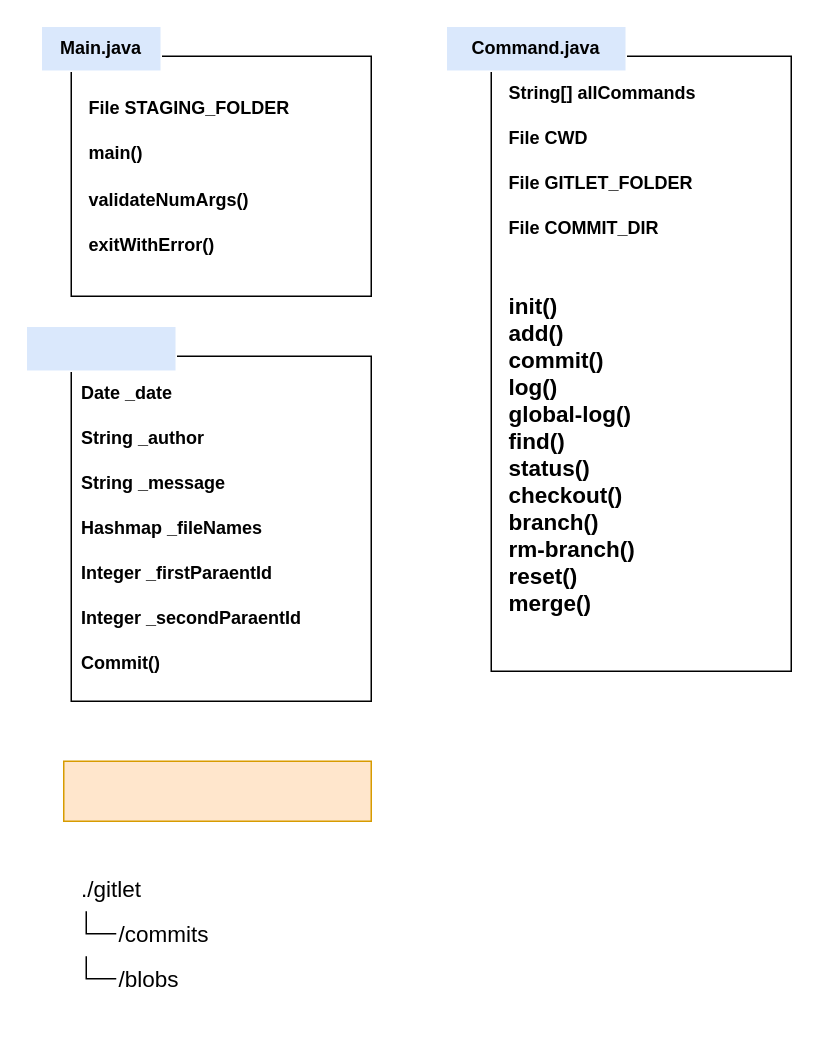
The diagram is 818 pixels wide and 1043 high, and some of its shapes have lost their labels. Here are the shapes that lost their labels. From the top down, the centre of each, then its label:
point (100, 348): Commit.java
point (216, 790): File System Structure
